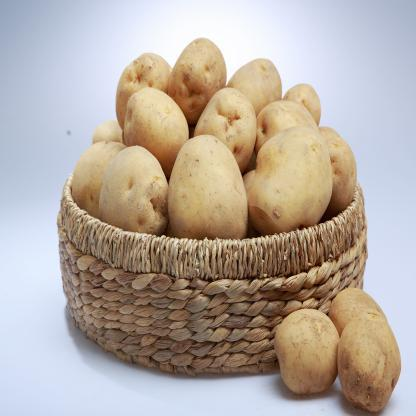potato: (245, 113, 335, 240), (171, 123, 249, 258), (95, 130, 177, 244), (339, 288, 398, 415), (108, 49, 189, 138), (114, 90, 194, 174), (169, 26, 232, 132), (269, 310, 341, 400), (247, 95, 332, 164), (192, 89, 254, 177), (219, 54, 280, 132)
